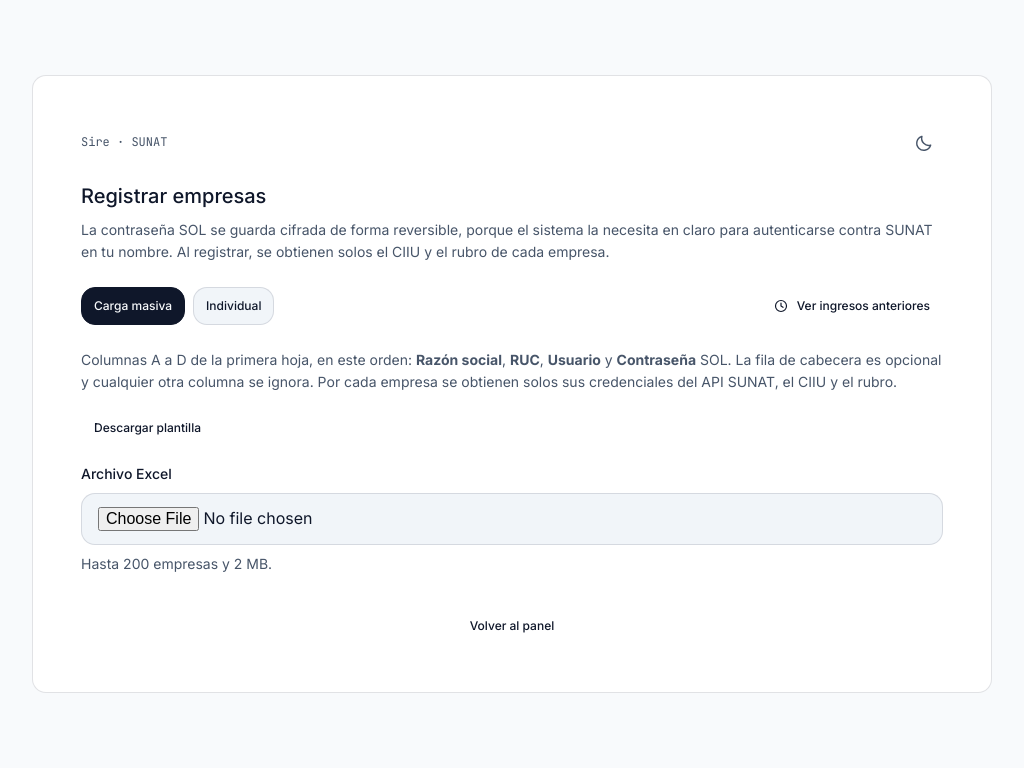
Test: alta de empresa › un RUC ya registrado apunta al selector en vez de dejar al usuario atascado
Click the button "Individual" at (234, 306), box [193, 287, 274, 325]
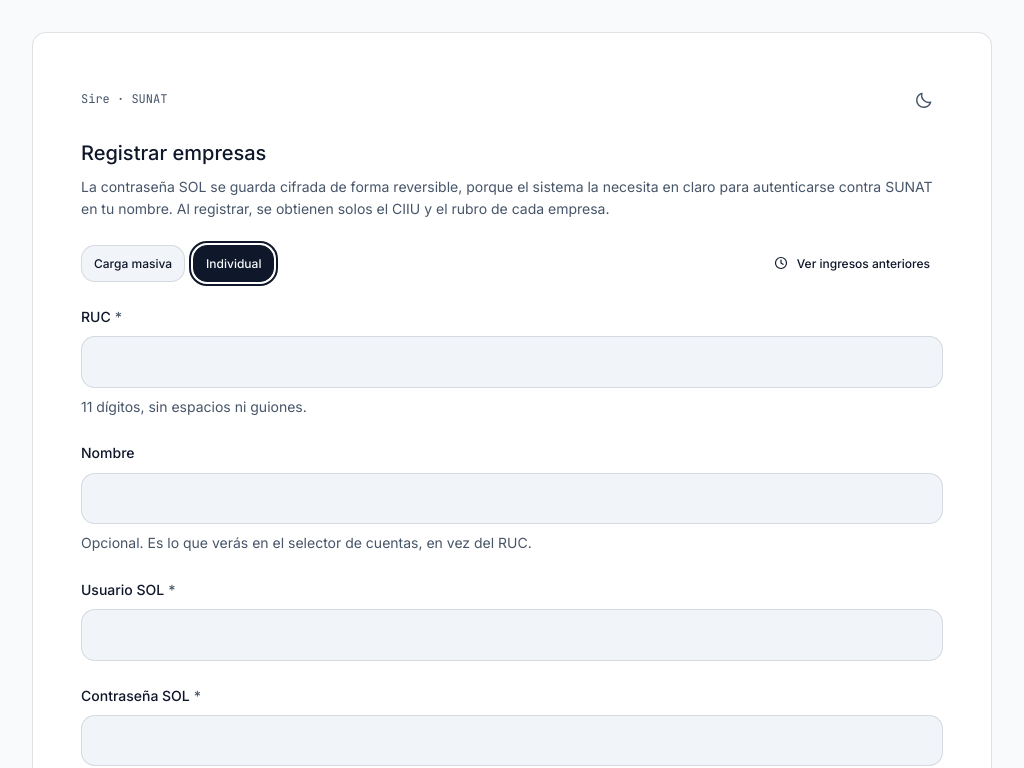
Type "20610202251" into the field labelled "RUC*" at (512, 362), box [81, 336, 943, 388]
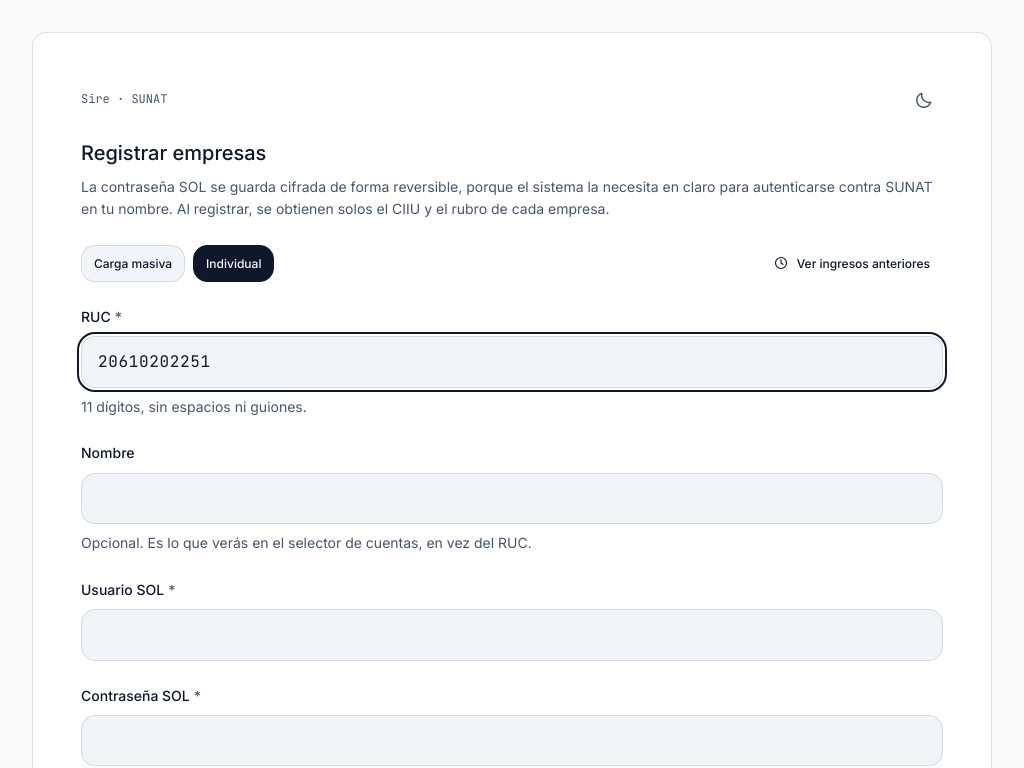
Type "USUARIO" into the field labelled "Usuario SOL*" at (512, 635), box [81, 609, 943, 660]
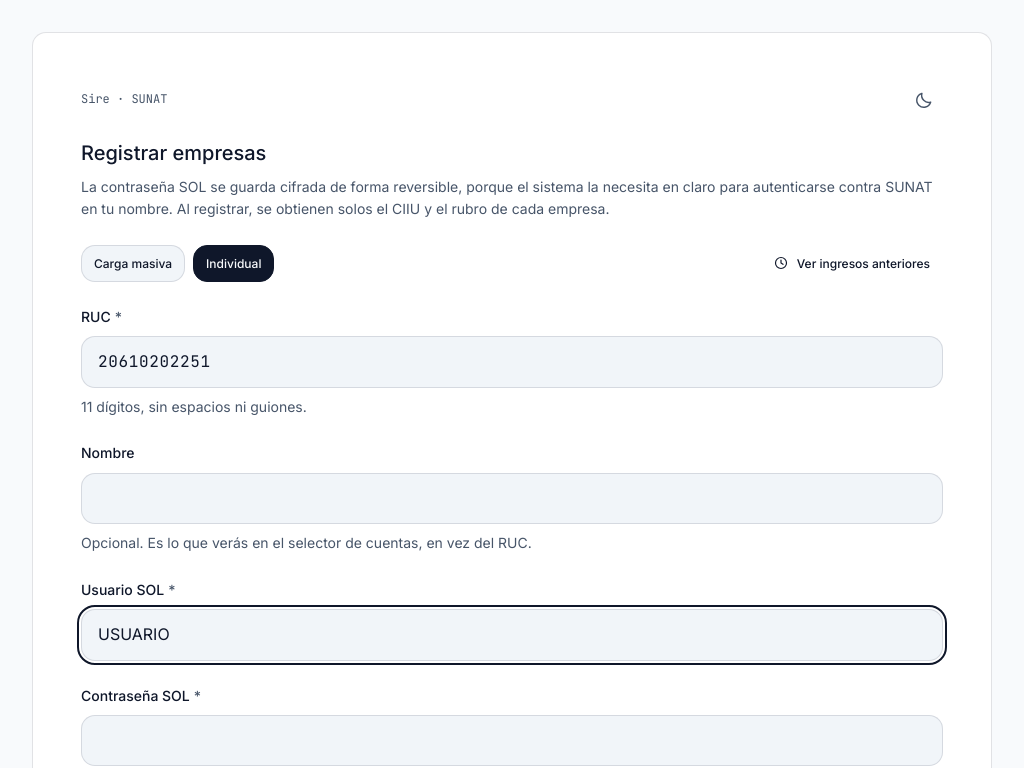
Type "clave" into the password field labelled "Contraseña SOL*" at (512, 741), box [81, 715, 943, 766]
(page scrolled)
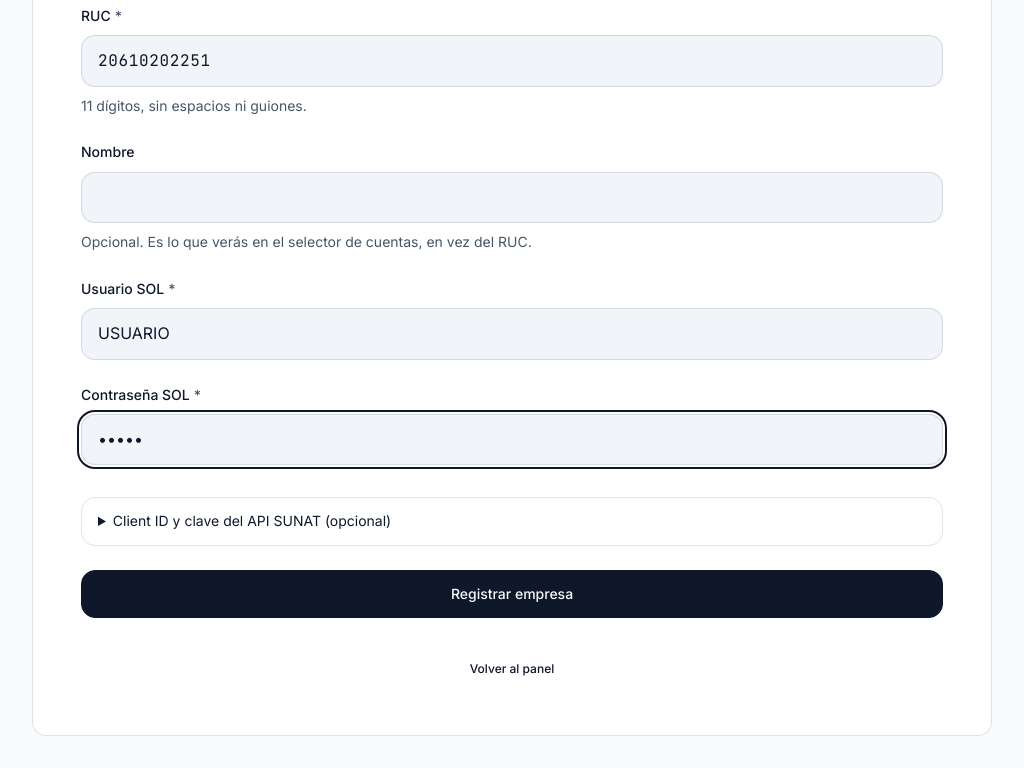
Click the button "Registrar empresa" at (512, 594), box [81, 570, 943, 618]
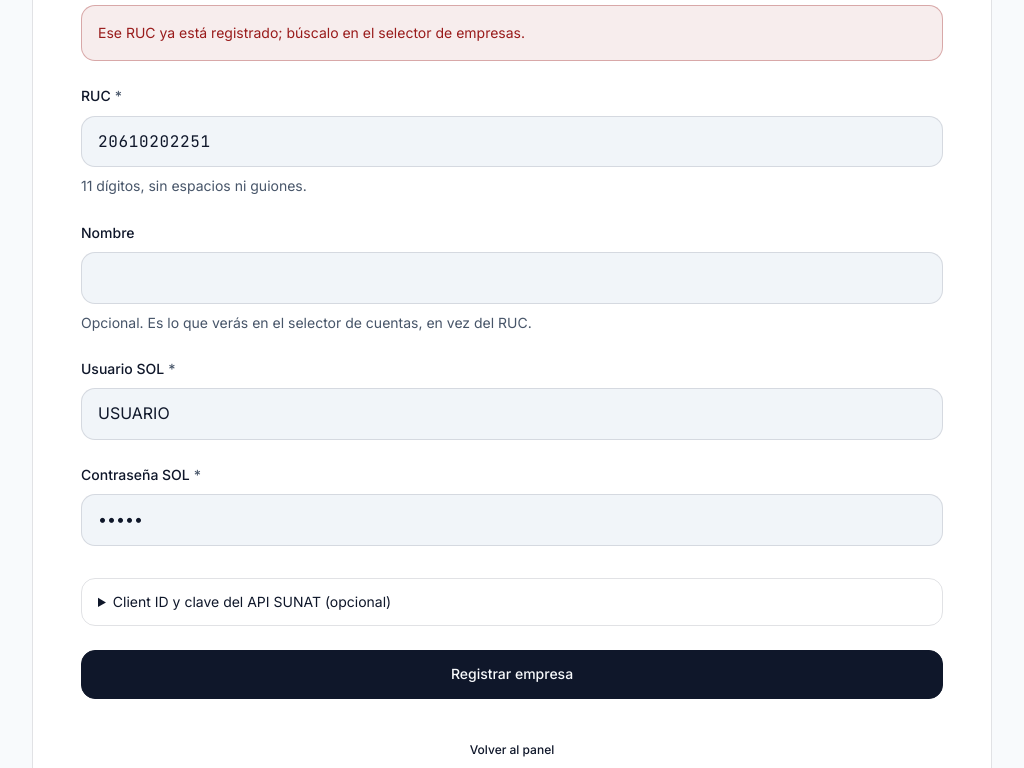
expect the message shows "búscalo en el selector de empresas": met, box [98, 24, 525, 41]
